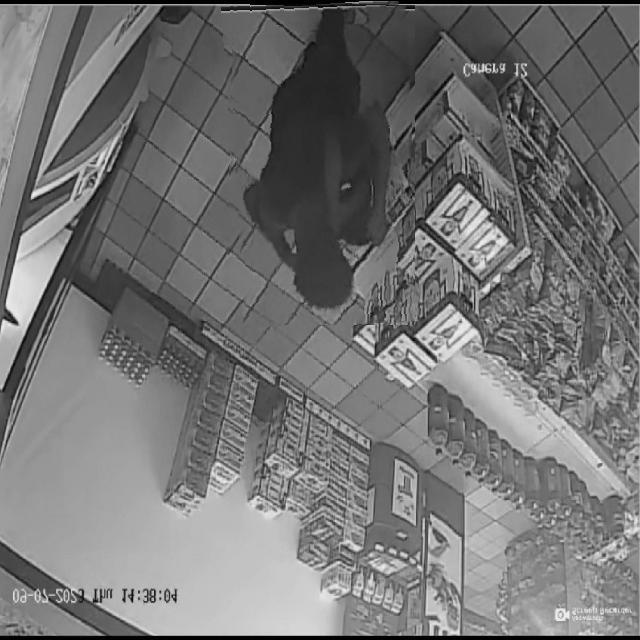Normal: (226, 0, 415, 325)
